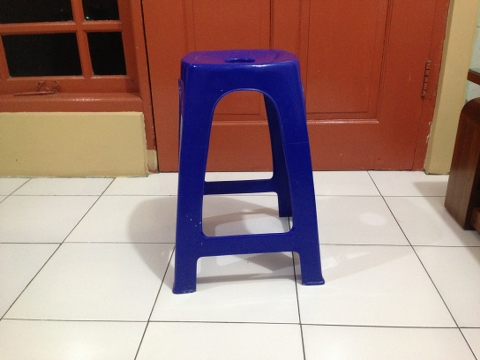kursi: (172, 49, 325, 294)
